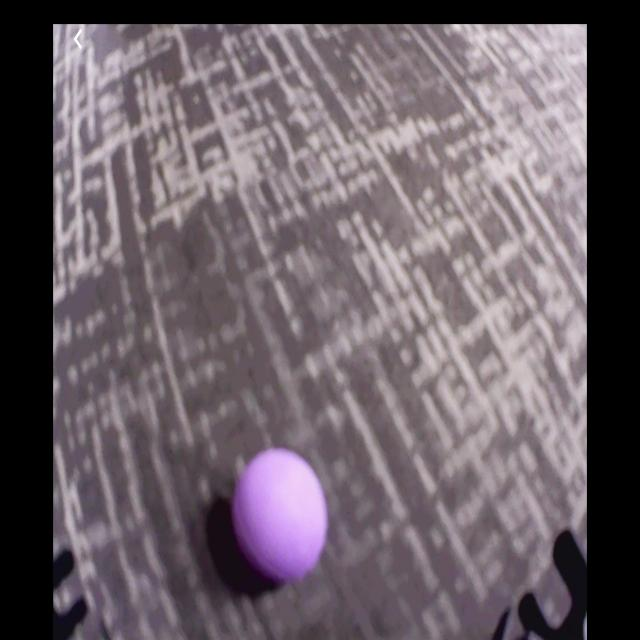ball: (234, 451, 328, 582)
